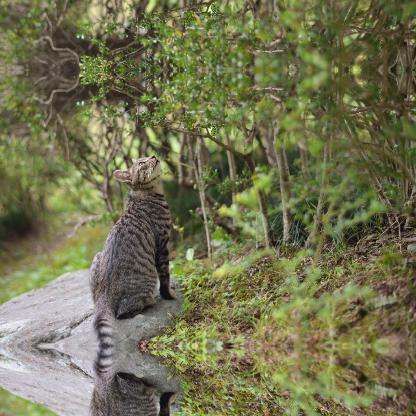Cat: (88, 152, 174, 344), (88, 346, 174, 415)
